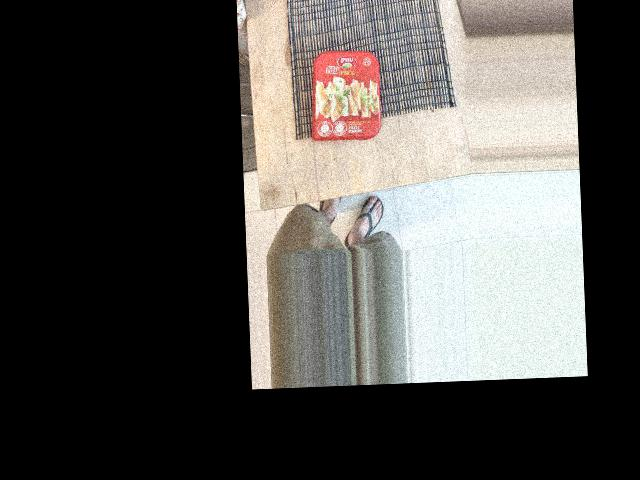cheese: (332, 27, 471, 118)
